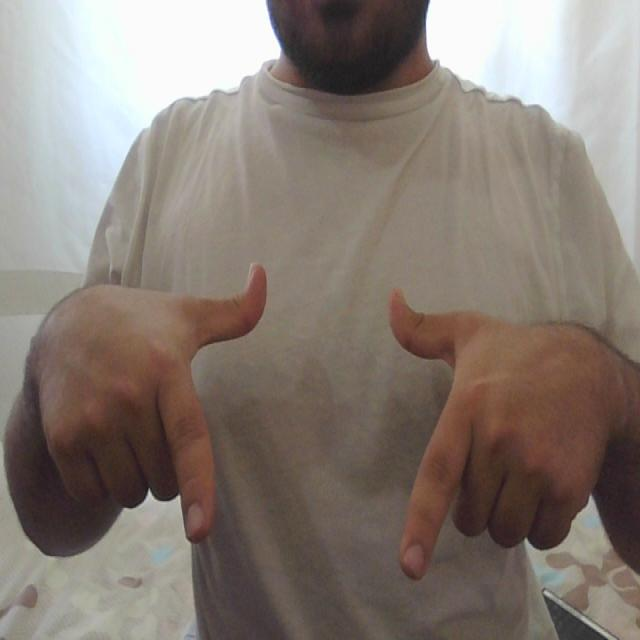Nerede: (153, 252, 492, 584)
